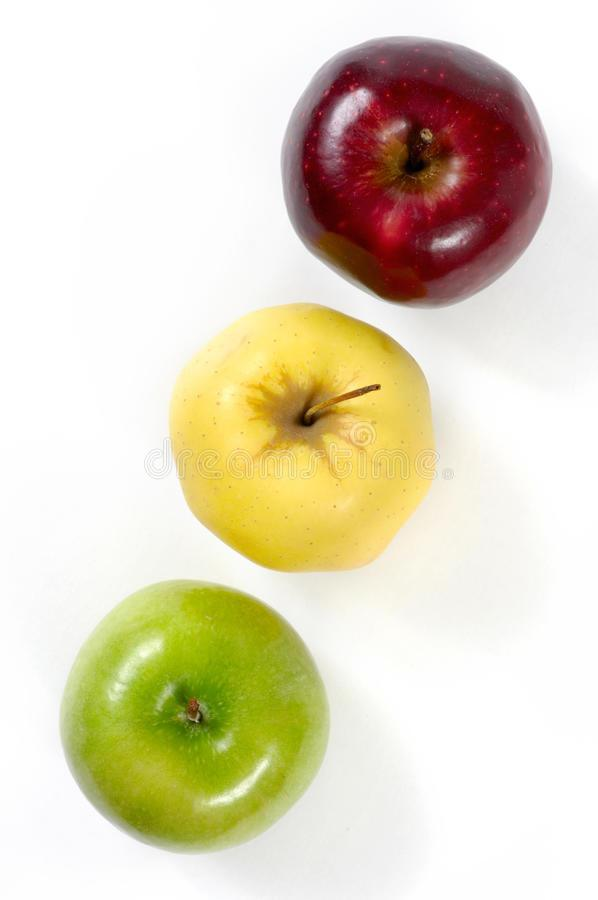apple: (279, 39, 553, 312)
